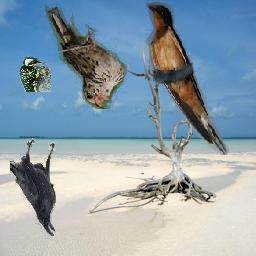Crow: (10, 138, 56, 236)
Sparrow: (45, 3, 127, 109)
Swallow: (146, 0, 231, 155)
Woodpecker: (19, 58, 51, 93)
